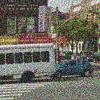buses: (0, 42, 58, 83)
